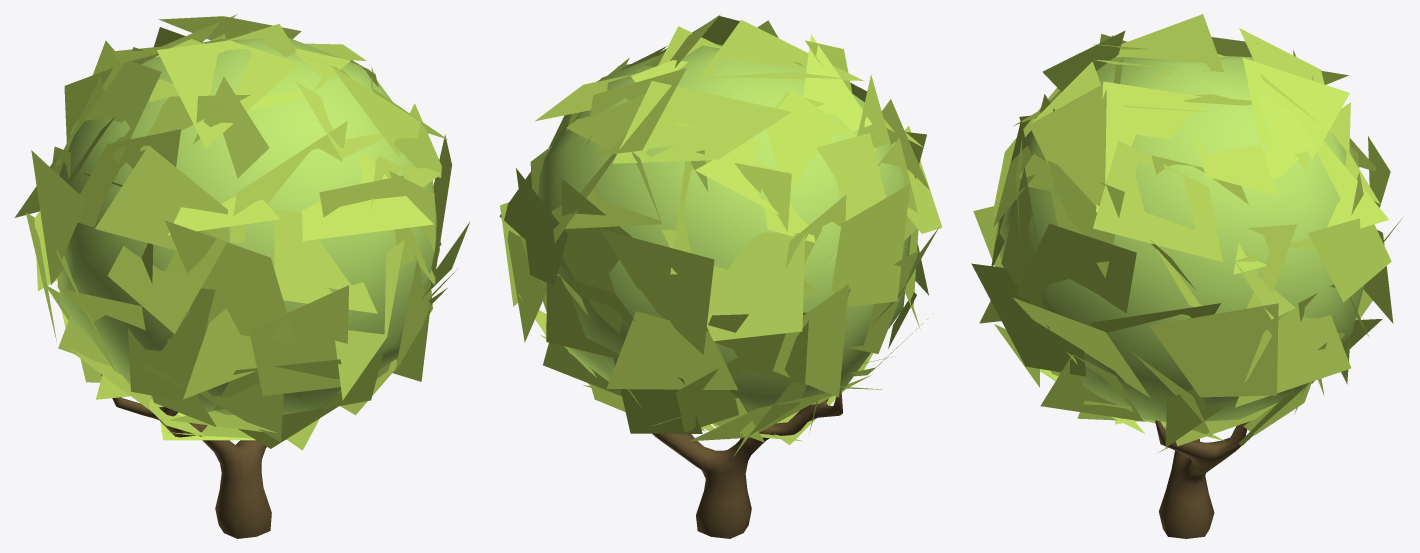
3 views of the same model, side by side, from view 1: azimuth 30°, elevation 25°; view 2: azimuth 150°, elevation 25°; view 3: azimuth 270°, elevation 25° (orthographic). The views are drawn at different scales.
Visible parts, largest first — view 1: Cube.004, Cube, Cube.007, 平面.001; view 2: Cube.004, Cube, Cube.007, 平面.001; view 3: Cube.004, Cube, Cube.007, 平面.001.
Part boxes in pixels (x1=…): Cube.004: x1=15, y1=14, x2=469, y2=448; Cube: x1=59, y1=37, x2=439, y2=415; Cube.007: x1=95, y1=27, x2=458, y2=450; 平面.001: x1=101, y1=374, x2=271, y2=538; Cube.004: x1=499, y1=14, x2=938, y2=457; Cube: x1=537, y1=44, x2=910, y2=423; Cube.007: x1=500, y1=16, x2=942, y2=442; 平面.001: x1=652, y1=389, x2=842, y2=538; Cube.004: x1=971, y1=14, x2=1402, y2=452; Cube: x1=995, y1=56, x2=1364, y2=421; Cube.007: x1=993, y1=35, x2=1389, y2=440; 平面.001: x1=1155, y1=420, x2=1249, y2=538.
Bounding box in the file's own units: 214 × 259 × 214.
